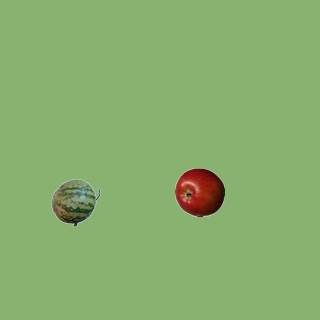Apple Braeburn: (174, 167, 224, 217)
Watermelon: (50, 177, 100, 227)
